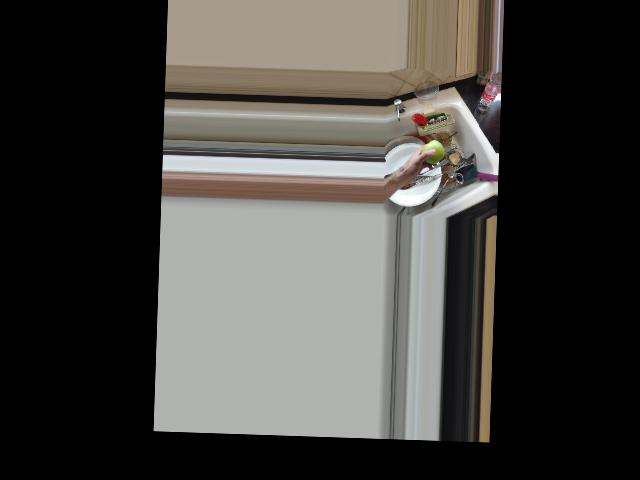apple: (418, 139, 445, 166)
